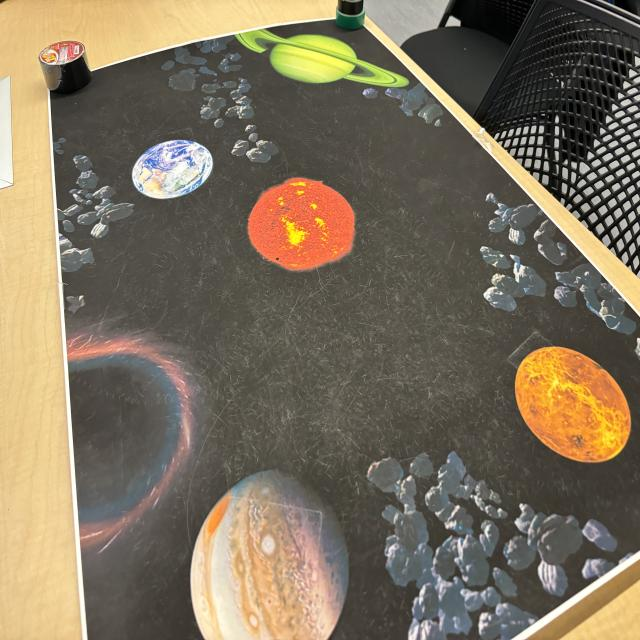Asteroids: (369, 453, 626, 640), (478, 186, 640, 337), (165, 50, 275, 162), (66, 136, 121, 276), (388, 83, 448, 130)
Black Hole: (63, 336, 188, 550)
Earth: (130, 139, 215, 198)
Jupiter: (187, 468, 350, 640)
Saturn: (234, 32, 410, 91)
Sun: (246, 174, 358, 275)
Venus: (512, 342, 633, 463)
